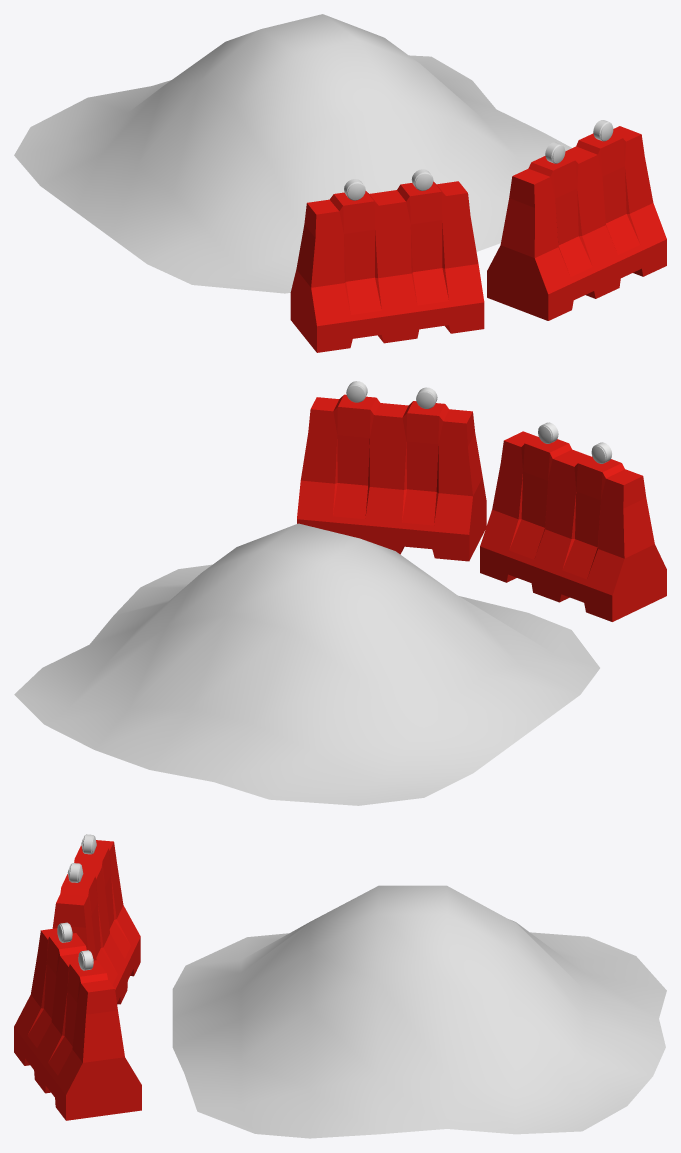
The model's file is obstacle-1-b.fbx.
The picture shows the model from 3 angles, top to bottom: view 1: azimuth 30°, elevation 25°; view 2: azimuth 150°, elevation 25°; view 3: azimuth 270°, elevation 25°; orthographic projection. The views are drawn at different scales.
Visible parts, largest first — view 1: soil-1, water-wall, water-wall.002; view 2: soil-1, water-wall.002, water-wall; view 3: soil-1, water-wall.002, water-wall.
Part boxes in pixels (bbox=[...]): soil-1: bbox=[14, 14, 571, 293]; water-wall: bbox=[290, 181, 484, 352]; water-wall.002: bbox=[487, 126, 666, 320]; soil-1: bbox=[14, 523, 599, 805]; water-wall.002: bbox=[297, 394, 486, 561]; water-wall: bbox=[480, 431, 666, 621]; soil-1: bbox=[172, 885, 666, 1138]; water-wall.002: bbox=[14, 928, 141, 1120]; water-wall: bbox=[52, 840, 140, 1004].
Bounding box in the file's own units: 54.38 × 17.63 × 72.39.
